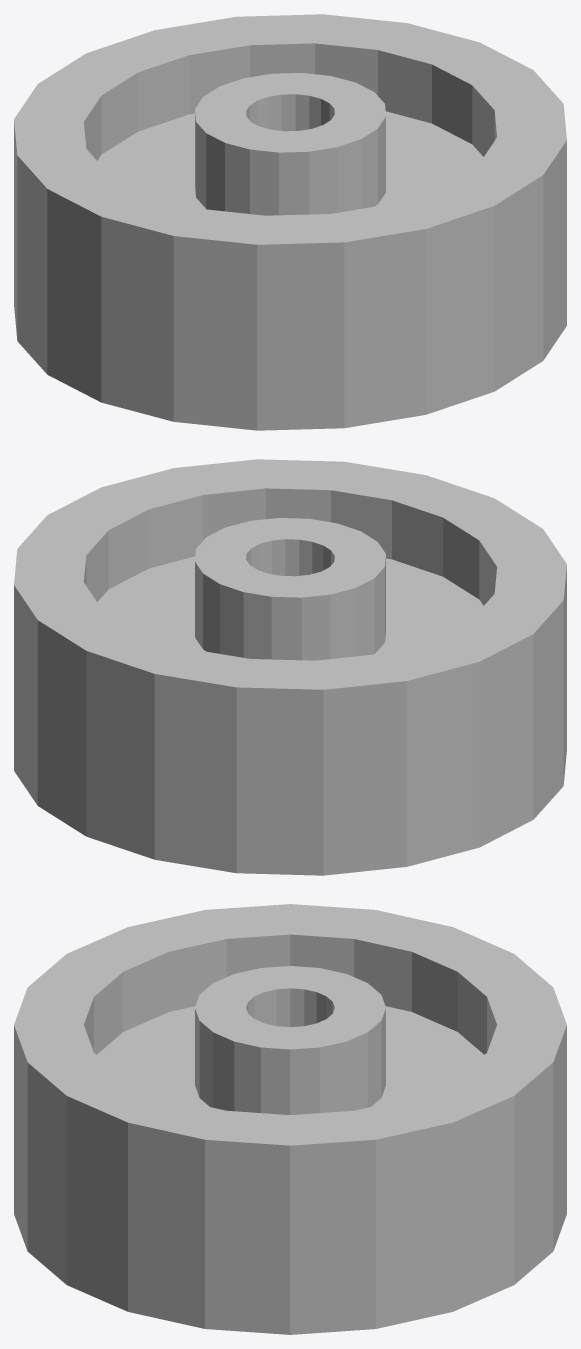
The model's file is Wheel.glb.
3 views of the same model, one above another, from view 1: azimuth 30°, elevation 25°; view 2: azimuth 150°, elevation 25°; view 3: azimuth 270°, elevation 25° (orthographic).
Parts seen in each view (by area): view 1: Wheel.003; view 2: Wheel.003; view 3: Wheel.003.
Boxes of the visible parts, x1=… form: Wheel.003: x1=14, y1=14, x2=566, y2=430; Wheel.003: x1=14, y1=459, x2=566, y2=875; Wheel.003: x1=14, y1=904, x2=566, y2=1334.
Bounding box in the file's own units: 1.02 × 0.4293 × 0.9828.
1 material, 1 textured.
